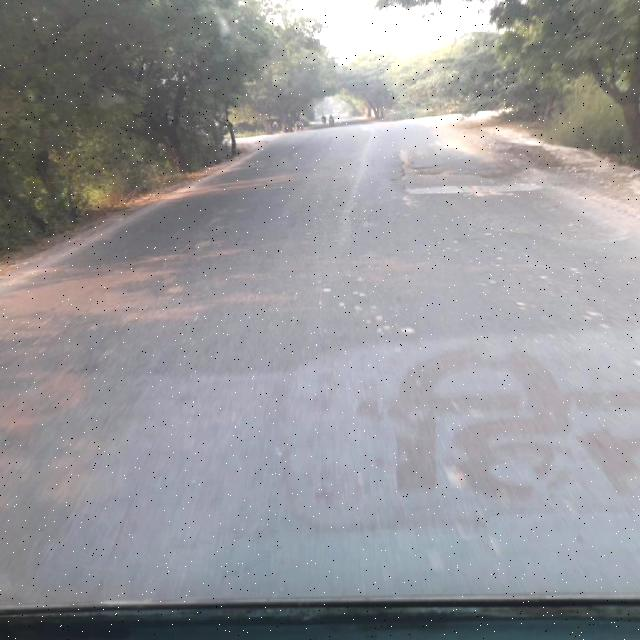D40: (385, 138, 529, 212)
